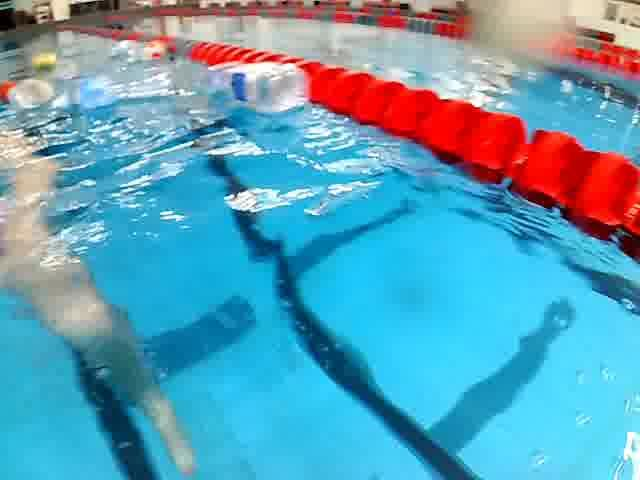Bottle: (200, 61, 312, 117)
